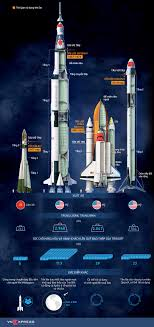ten_lua: (47, 2, 76, 201), (9, 126, 38, 195)
